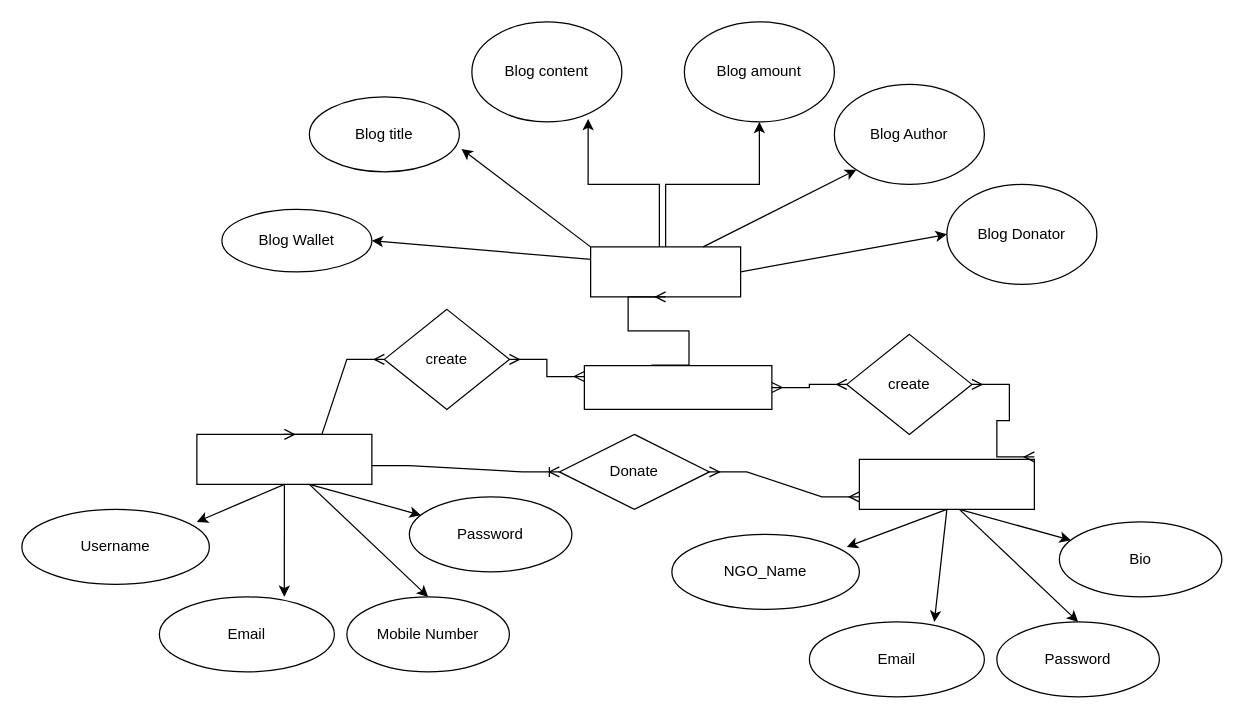
The diagram is 1244 pixels wide and 719 high, and some of its shapes have lost their labels. The shapes that lost their labels are listed below. From the top down, each one's centre as x and y in pixels, then its label:
point 665,271: Blogs
point 677,386: NGO_MManagement _system
point 284,458: User
point 946,483: NGO
